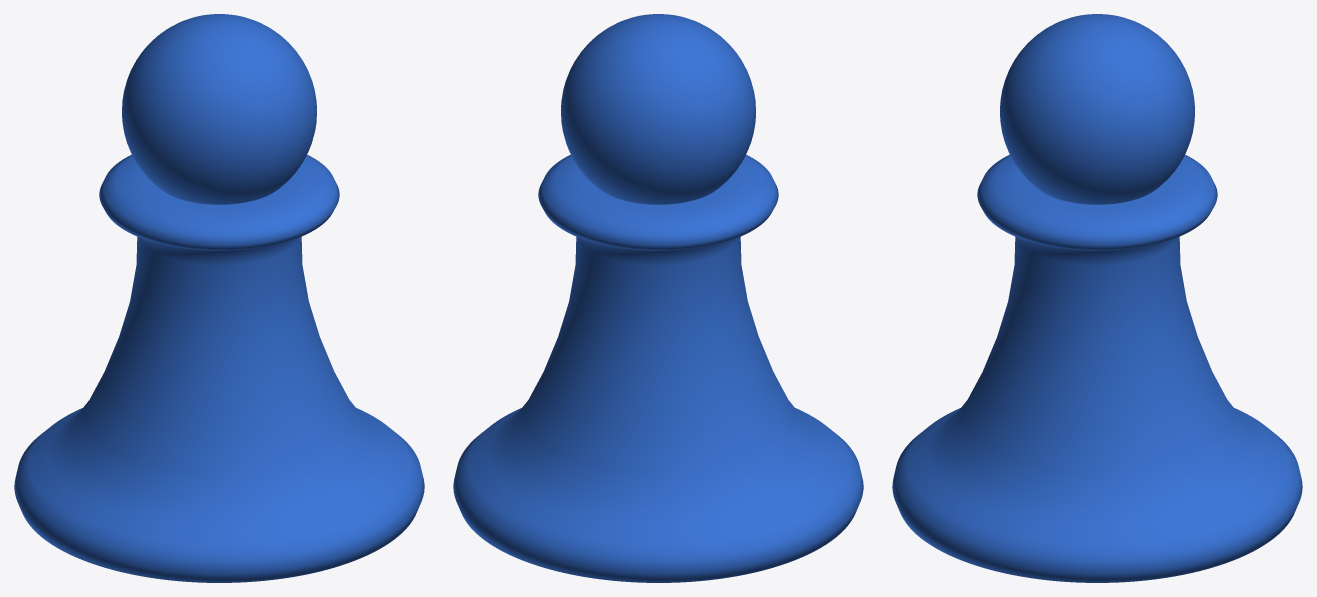
The model's file is pawn.glb.
3 views of the same model, side by side, from view 1: azimuth 30°, elevation 25°; view 2: azimuth 150°, elevation 25°; view 3: azimuth 270°, elevation 25° (orthographic).
Parts seen in each view (by area): view 1: Gridlock_Pawn; view 2: Gridlock_Pawn; view 3: Gridlock_Pawn.
Boxes of the visible parts, x1,y1,x2,y2 form: Gridlock_Pawn: (14,14,424,582); Gridlock_Pawn: (453,14,863,582); Gridlock_Pawn: (892,14,1302,582).
Bounding box in the file's own units: 0.42 × 0.55 × 0.42.
